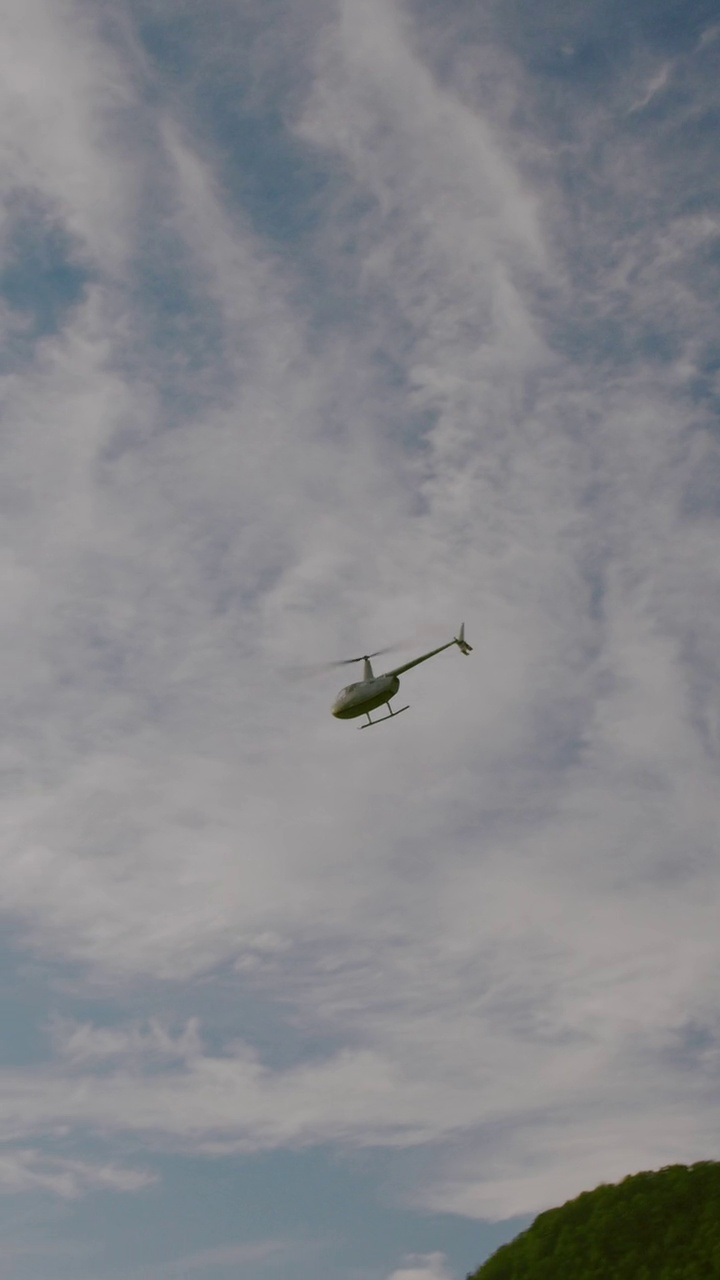heli: (307, 624, 475, 731)
